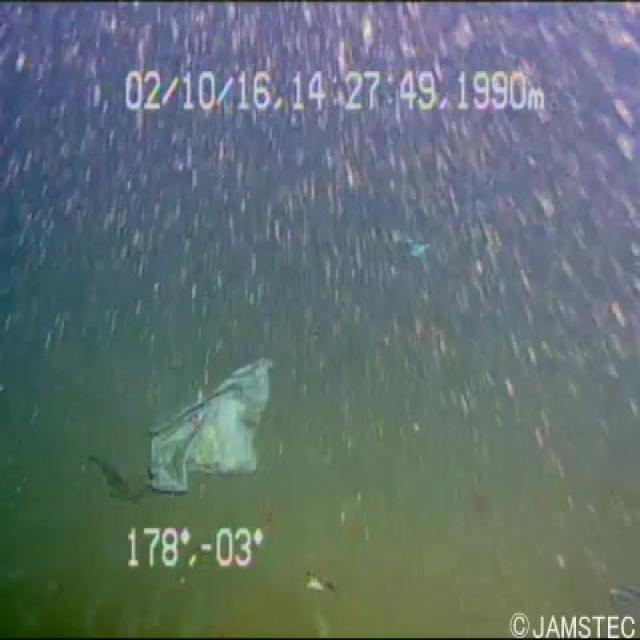plastic: (128, 334, 293, 507), (385, 215, 432, 279)
